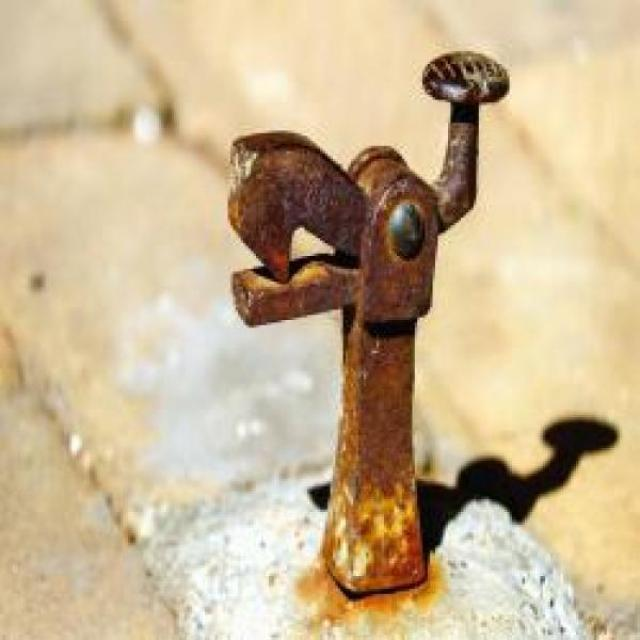Crack: (4, 324, 139, 545)
